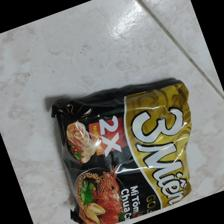3mien: (50, 77, 192, 224)
